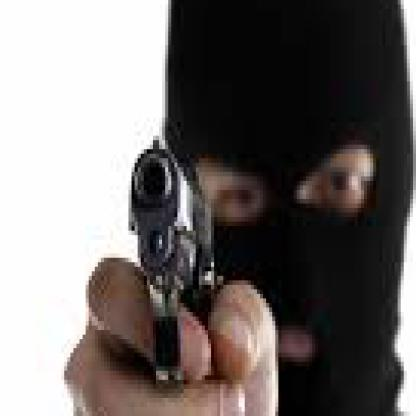gun: (107, 117, 226, 389)
